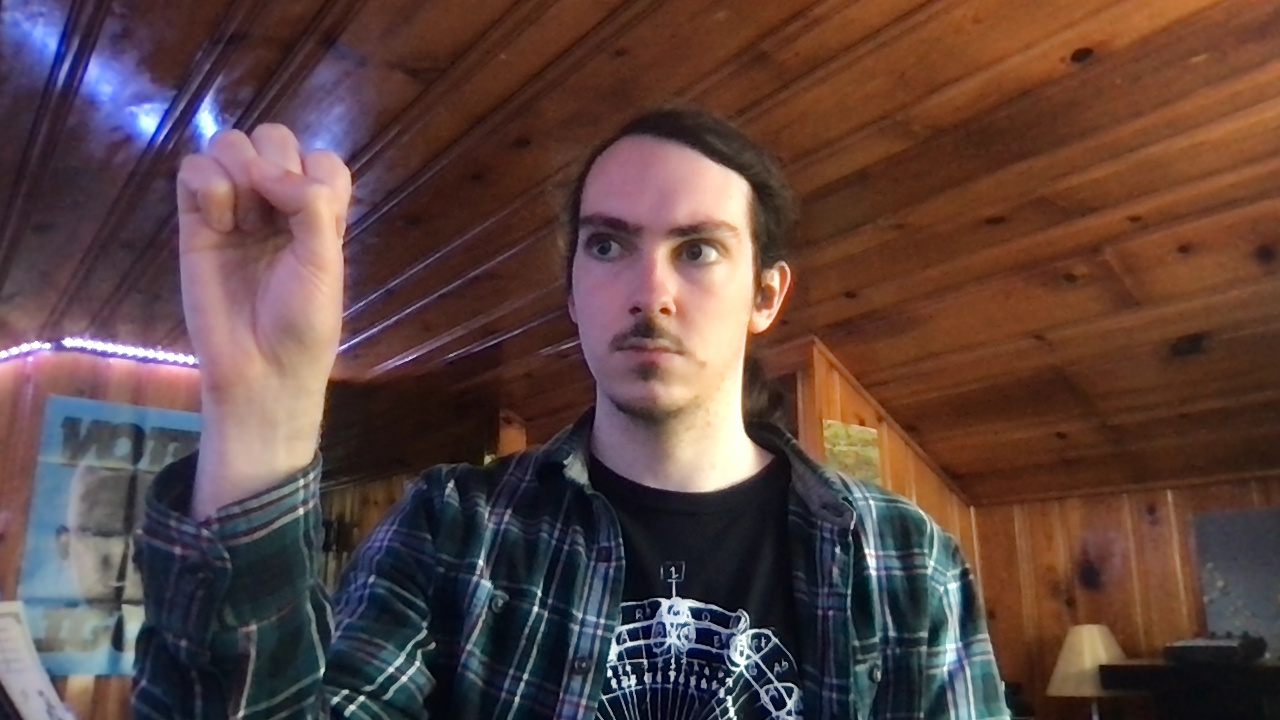s: (175, 122, 353, 394)
